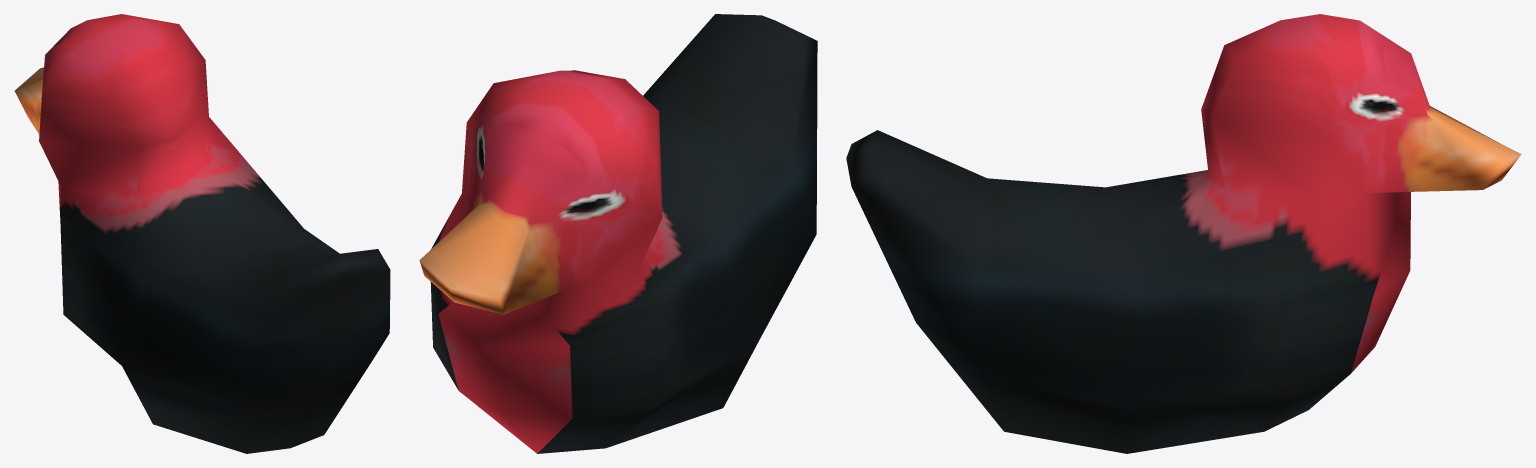
File: duck_kashi.fbx
3 views of the same model, side by side, from view 1: azimuth 30°, elevation 25°; view 2: azimuth 150°, elevation 25°; view 3: azimuth 270°, elevation 25° (orthographic). The views are drawn at different scales.
Parts seen in each view (by area): view 1: kashi; view 2: kashi; view 3: kashi.
Boxes of the visible parts, x1,y1,x2,y2 form: kashi: (14,14,390,453); kashi: (419,14,817,453); kashi: (846,14,1521,453).
Bounding box in the file's own units: 0.11 × 0.1561 × 0.2568.
1 material, 1 textured.
